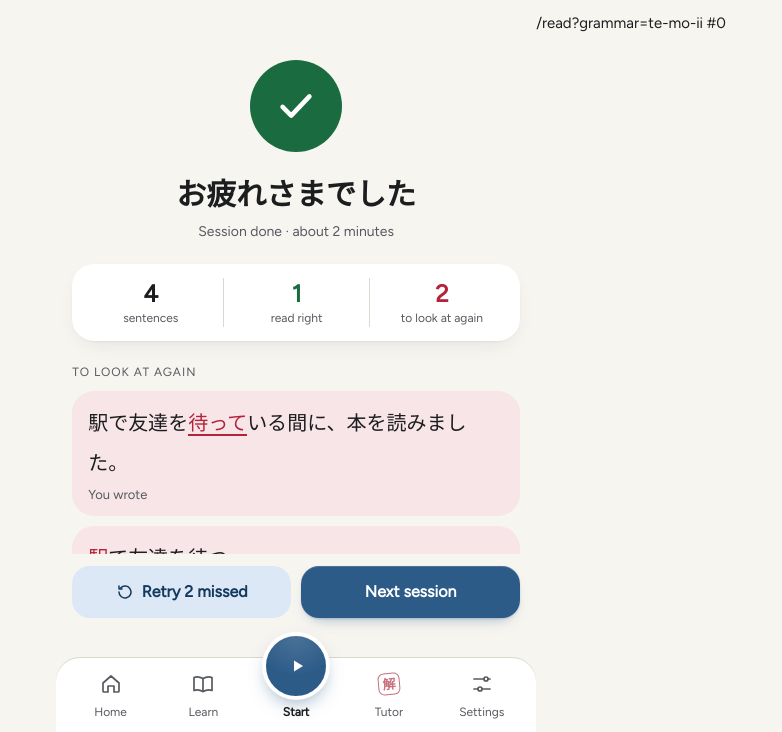
Scenario: SessionEnd › retries only the missed cards, right away, as a new round
Check: the list named "Counts" is shown, box [72,264,520,341]
Click the button "Retry 2 missed": (182, 592) [72,566,291,618]
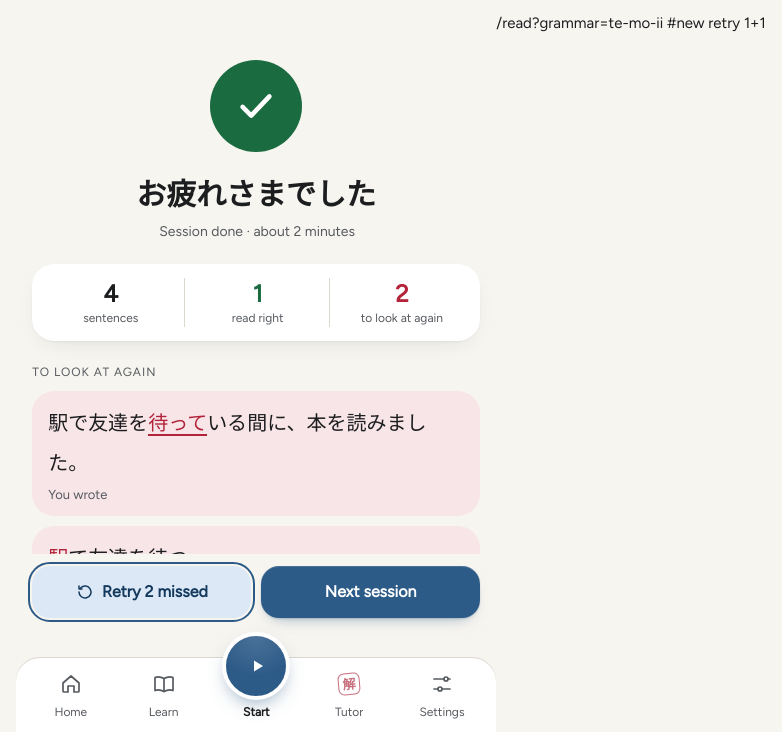
Check: the text "/read?grammar=te-mo-ii #new retry 1+1" is shown, box [496,14,766,32]
